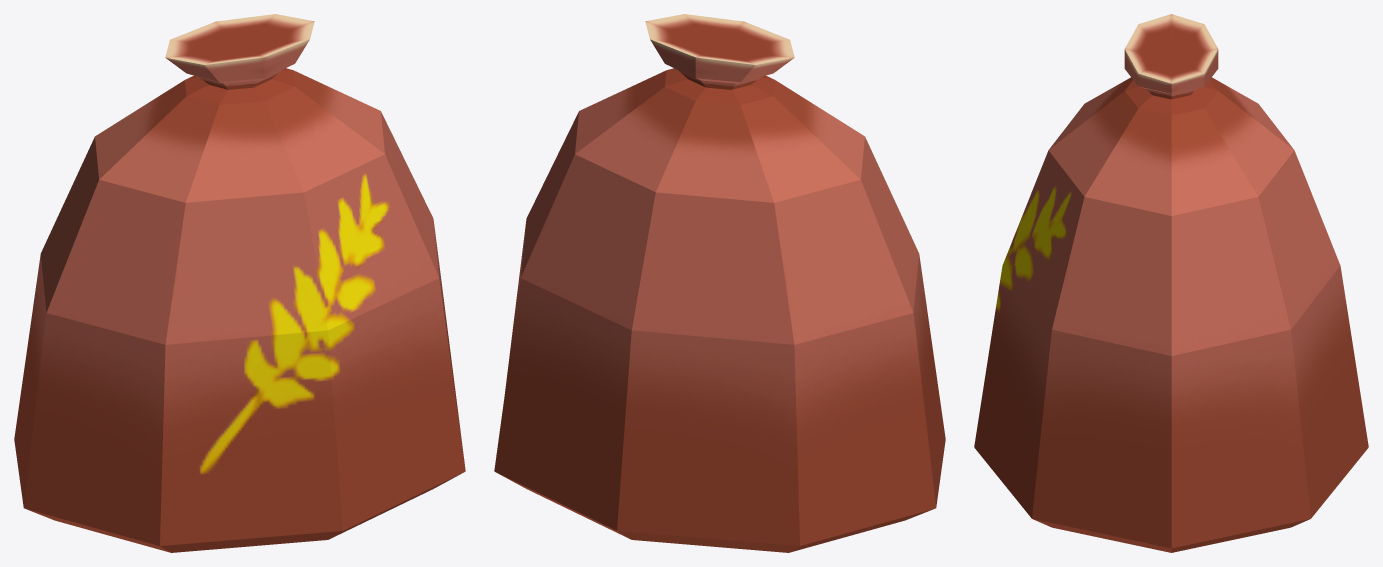
Rendered from Asset_Item_WheatBag.fbx.
3 renders of one model, left to right at view 1: azimuth 30°, elevation 25°; view 2: azimuth 150°, elevation 25°; view 3: azimuth 270°, elevation 25°, orthographic. The views are drawn at different scales.
Parts seen in each view (by area): view 1: Asset_Item_WheatBag; view 2: Asset_Item_WheatBag; view 3: Asset_Item_WheatBag.
Boxes of the visible parts, x1,y1,x2,y2 form: Asset_Item_WheatBag: (14, 14, 465, 552); Asset_Item_WheatBag: (494, 14, 945, 552); Asset_Item_WheatBag: (974, 14, 1368, 552).
Size of the model in its own units: 25.78 by 24.83 by 21.27.
